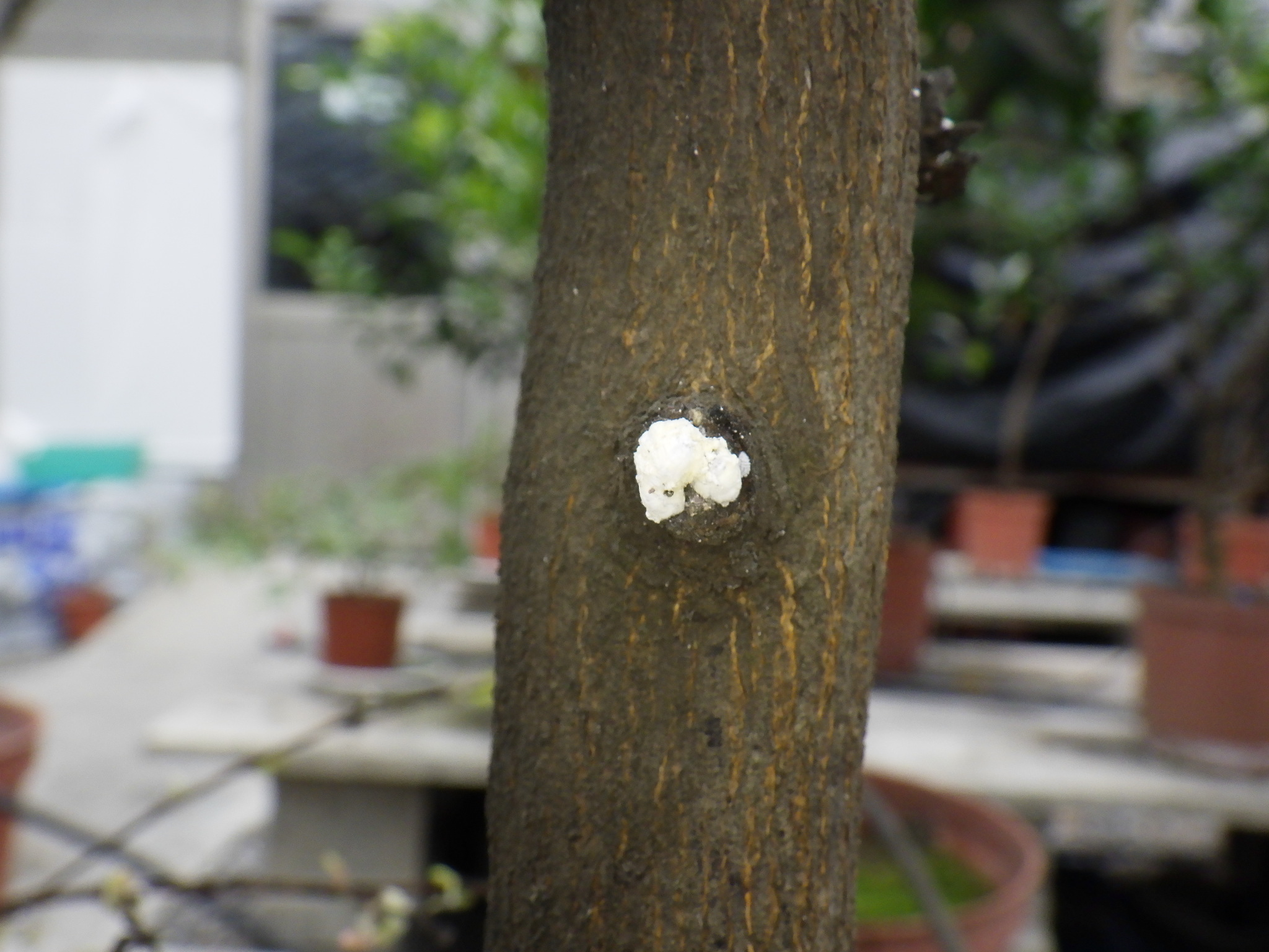Scale_Insect: (634, 418, 750, 522)
